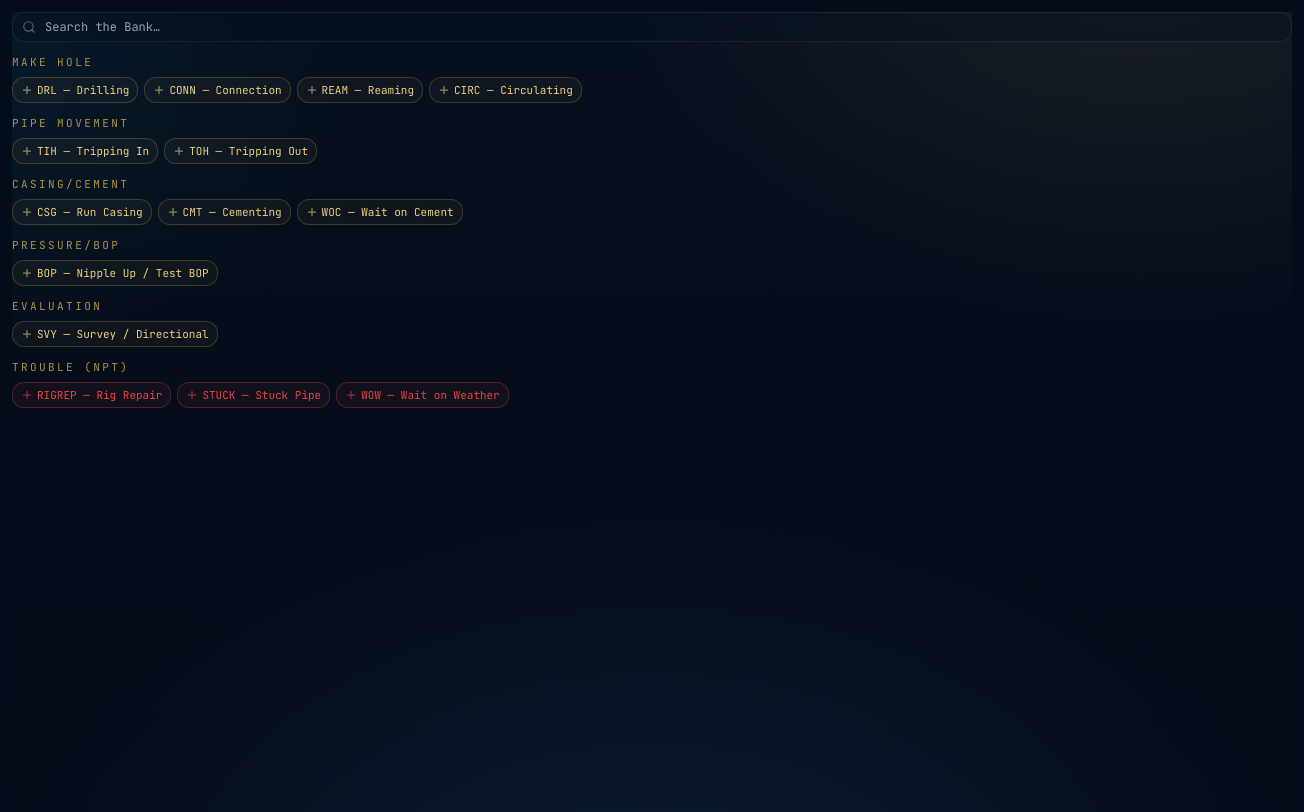
BankPalette › filters the catalog by search term
The width and height of the screenshot is (1304, 812).
Type "cement" into the search field labelled "Search the Bank…" at (652, 27), box [12,12,1292,42]
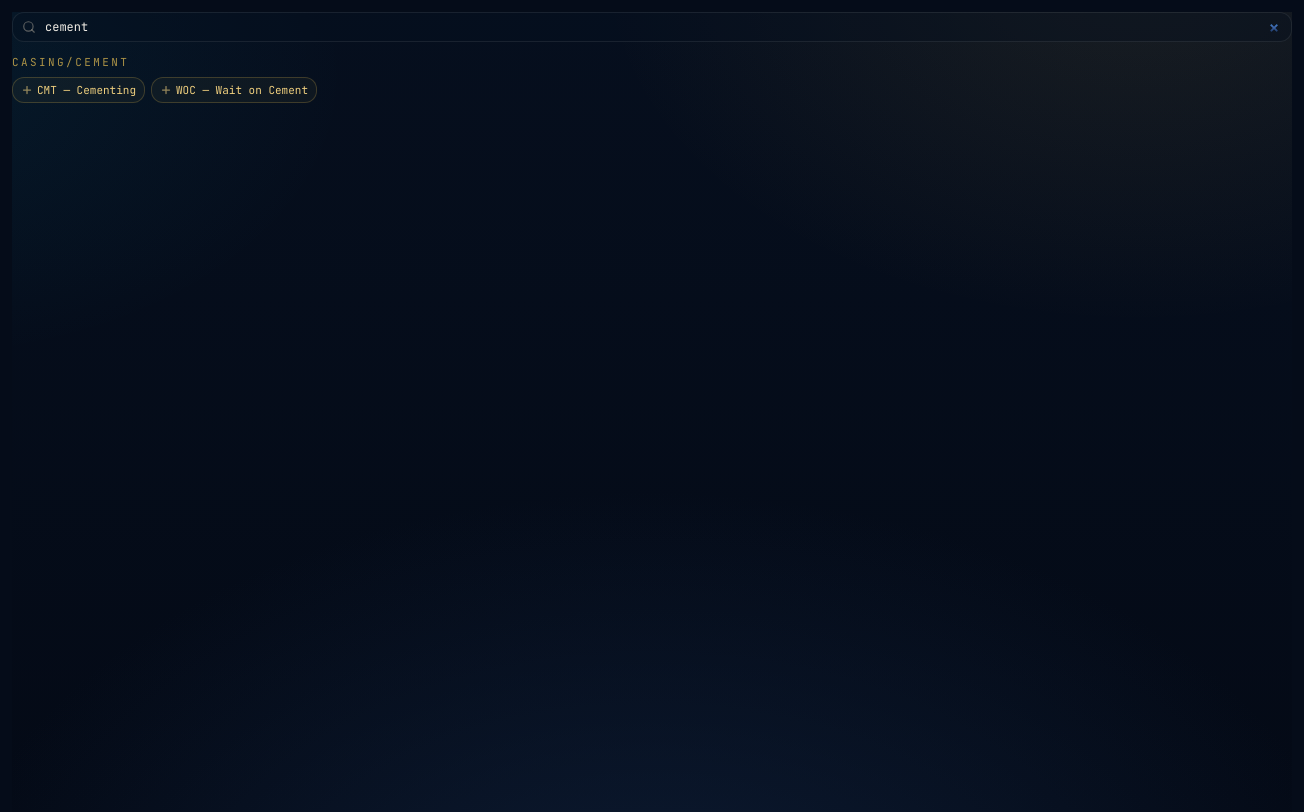
Expected: the button "CMT — Cementing" is shown, [12,76,145,103]
Expected: the button "Drilling" is gone
